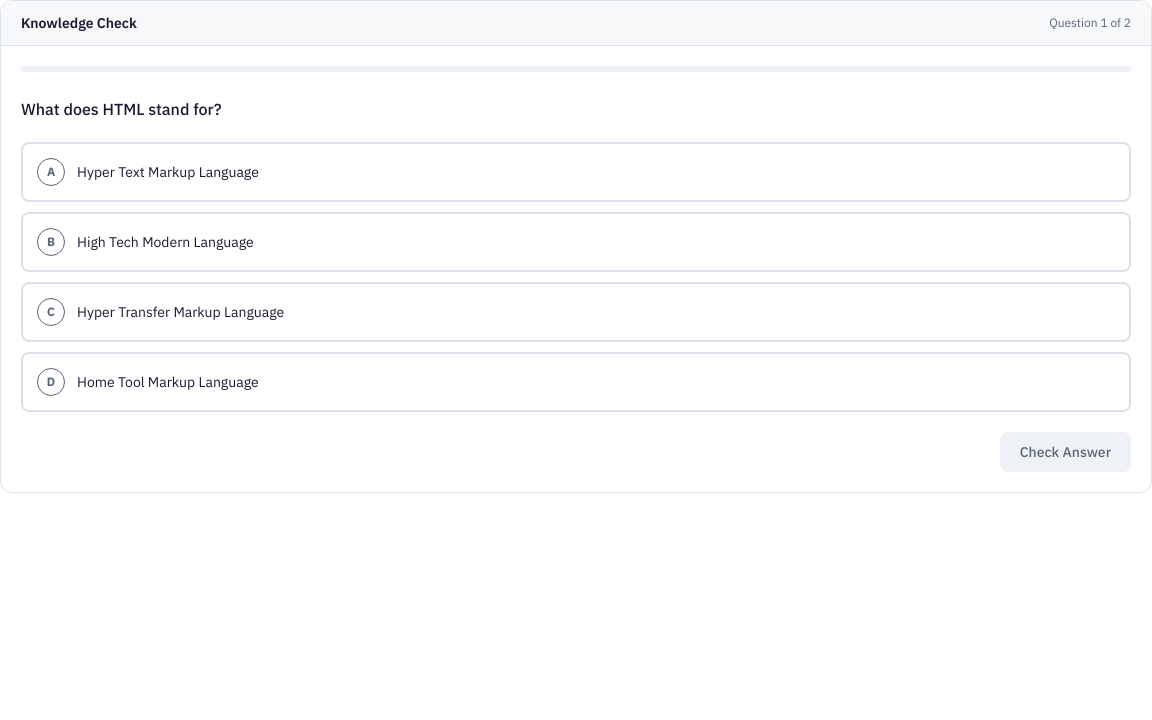
it: QuizBlock submit › answer buttons are disabled after submitting
Click the text "High Tech Modern Language" at (165, 242), box [77,232,254,252]
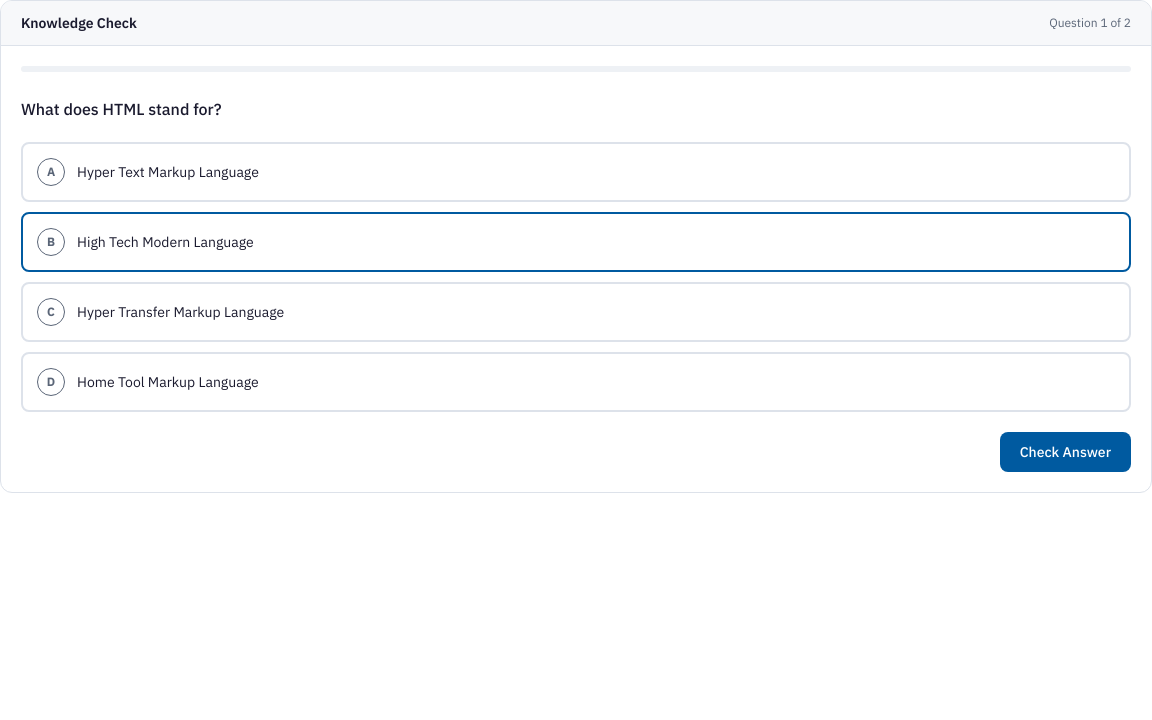
Click the button "Check Answer" at (1065, 452), box [1000,432,1131,472]
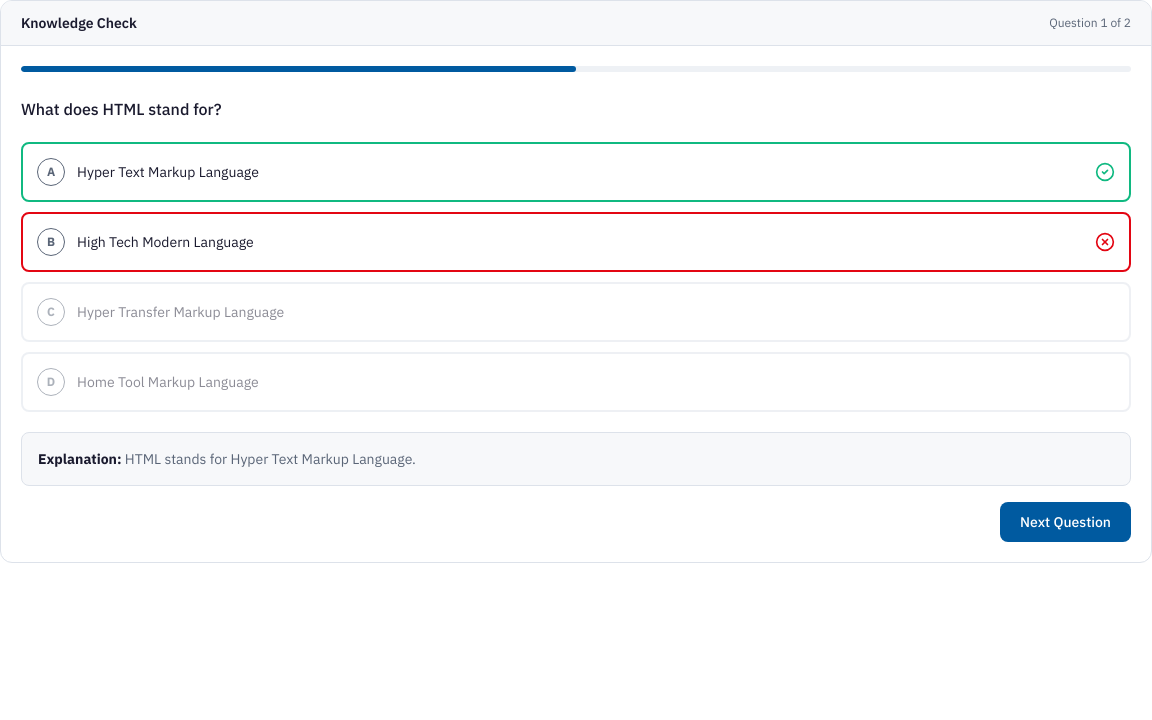
Expected: the button "A Hyper Text Markup Language" is disabled, [21,142,1131,202]
Expected: the button "B High Tech Modern Language" is disabled, [21,212,1131,272]
Expected: the button "C Hyper Transfer Markup Language" is disabled, [21,282,1131,342]
